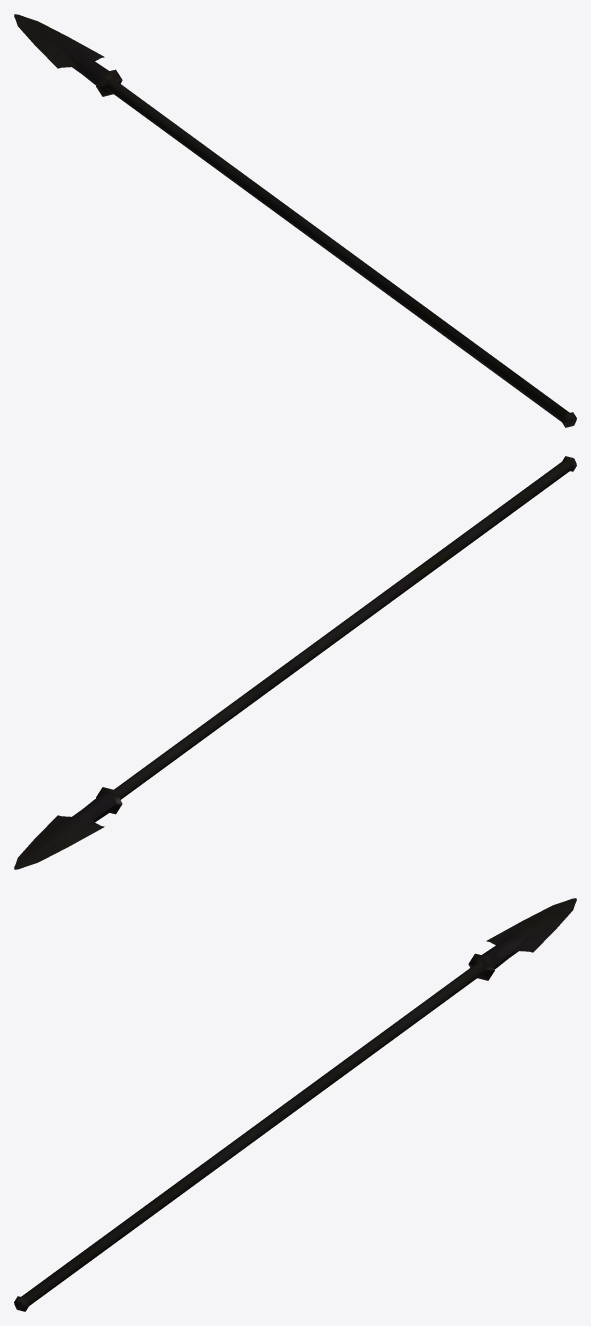
3 renders of one model, top to bottom at view 1: azimuth 30°, elevation 25°; view 2: azimuth 150°, elevation 25°; view 3: azimuth 330°, elevation 25°, orthographic.
Visible parts, largest first — view 1: mesh_0; view 2: mesh_0; view 3: mesh_0.
Part boxes in pixels (bbox=[...]): mesh_0: bbox=[14, 14, 576, 427]; mesh_0: bbox=[14, 456, 576, 869]; mesh_0: bbox=[14, 898, 576, 1311].
Bounding box in the file's own units: 4.44 × 2.17 × 90.74.
Materials: 1 (1 with a texture image).
